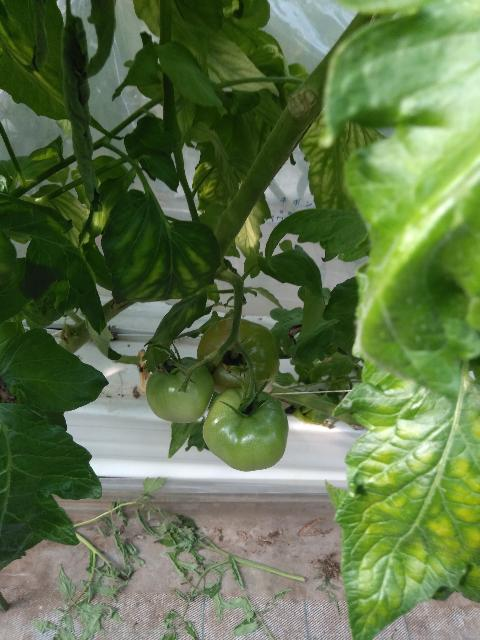b_green: (202, 388, 289, 472), (197, 318, 279, 394), (146, 357, 215, 423)
